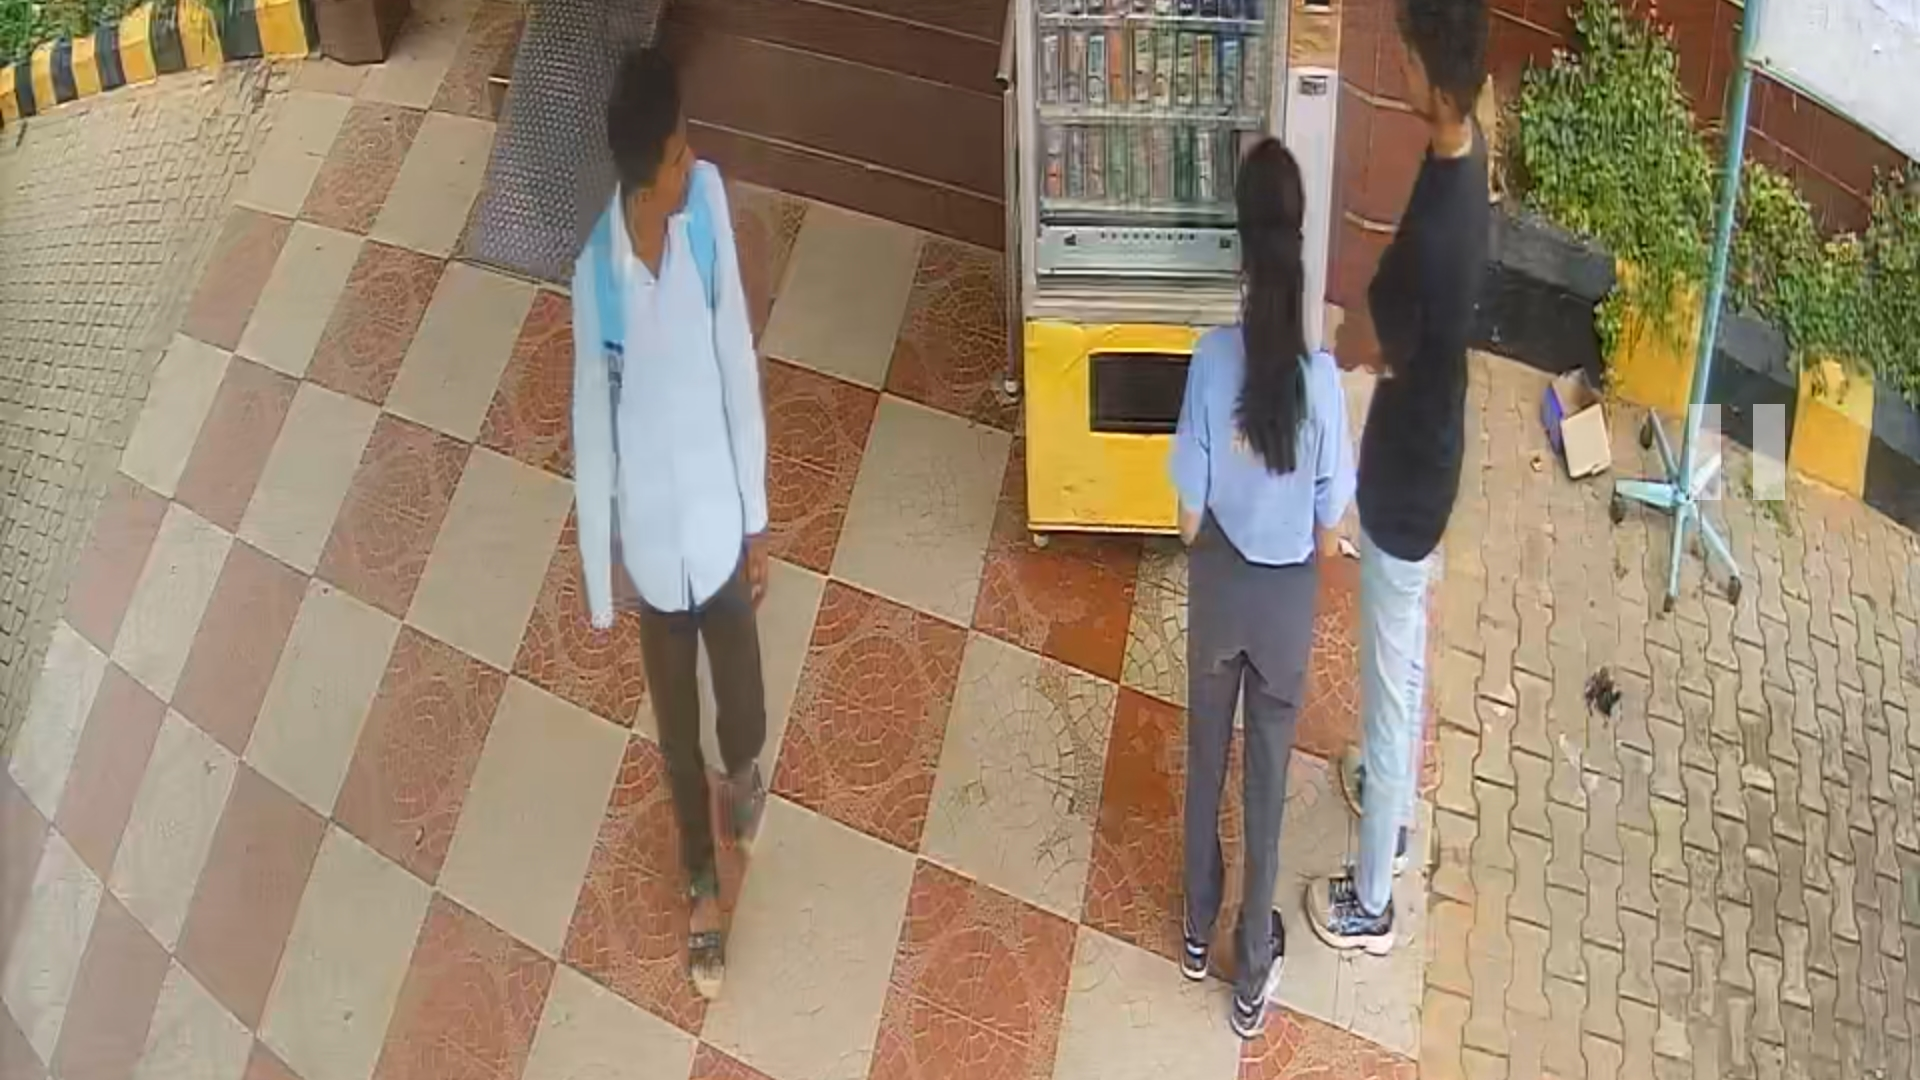intruder: (553, 38, 799, 1011)
